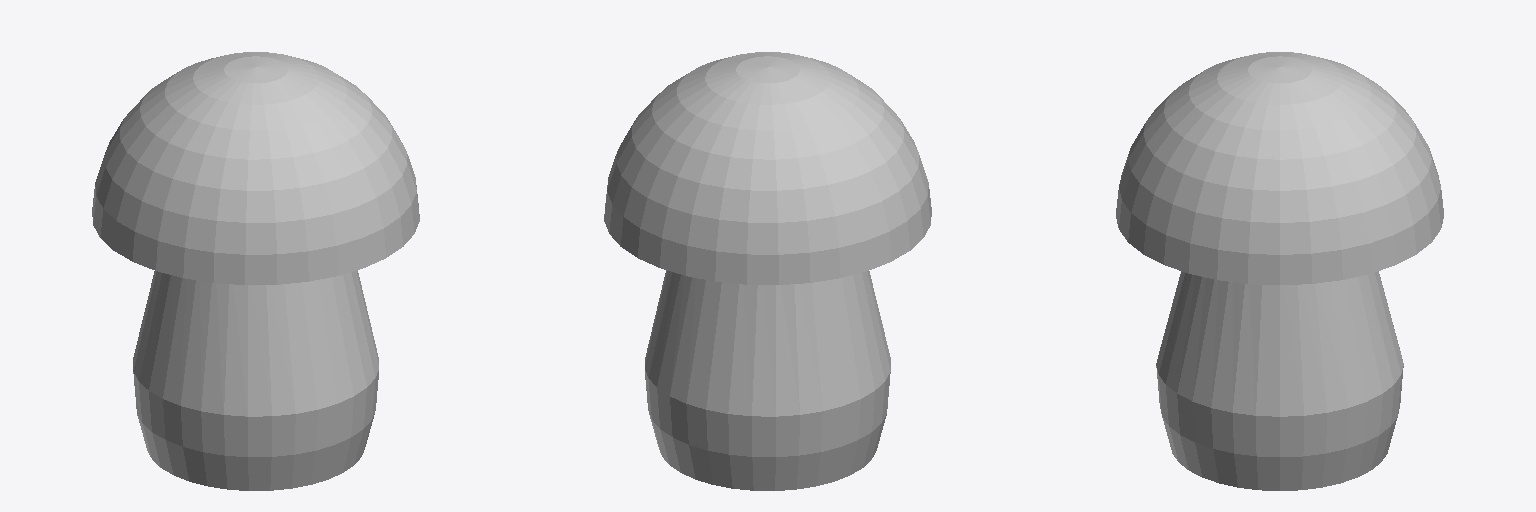
File: Toadstool.obj
3 renders of one model, left to right at view 1: azimuth 30°, elevation 25°; view 2: azimuth 150°, elevation 25°; view 3: azimuth 270°, elevation 25°, orthographic.
Parts seen in each view (by area): view 1: Toadstool; view 2: Toadstool; view 3: Toadstool.
Boxes of the visible parts, x1,y1,x2,y2 form: Toadstool: [92, 52, 419, 490]; Toadstool: [604, 52, 931, 490]; Toadstool: [1116, 52, 1443, 490].
Size of the model in its own units: 3 by 3.81 by 3.